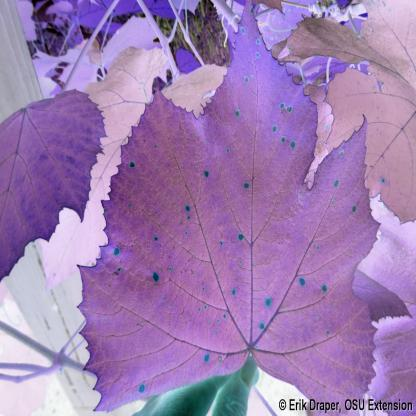grape leaf black rot: (45, 8, 405, 395)
